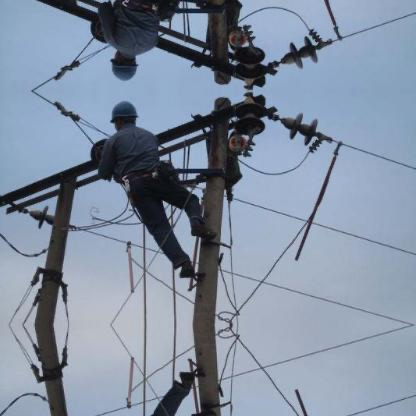Safety Helmet: (100, 41, 148, 88), (104, 96, 146, 136)
